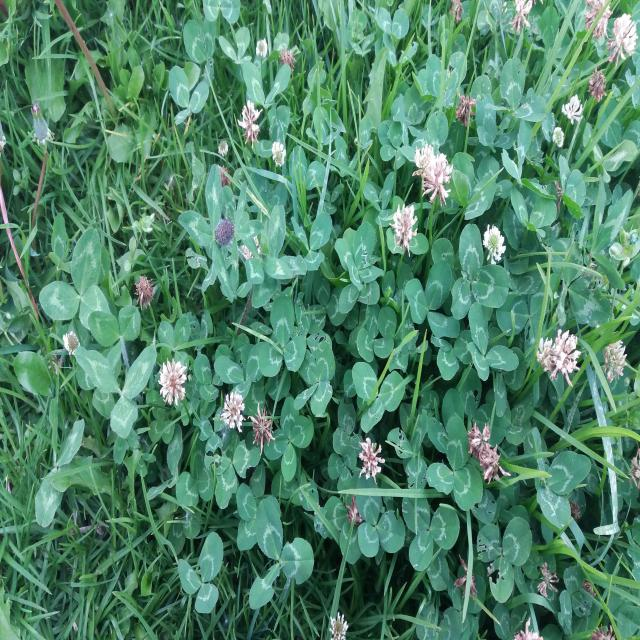Four Leaf Clover: (335, 222, 383, 291), (264, 409, 309, 481), (294, 342, 335, 403)
